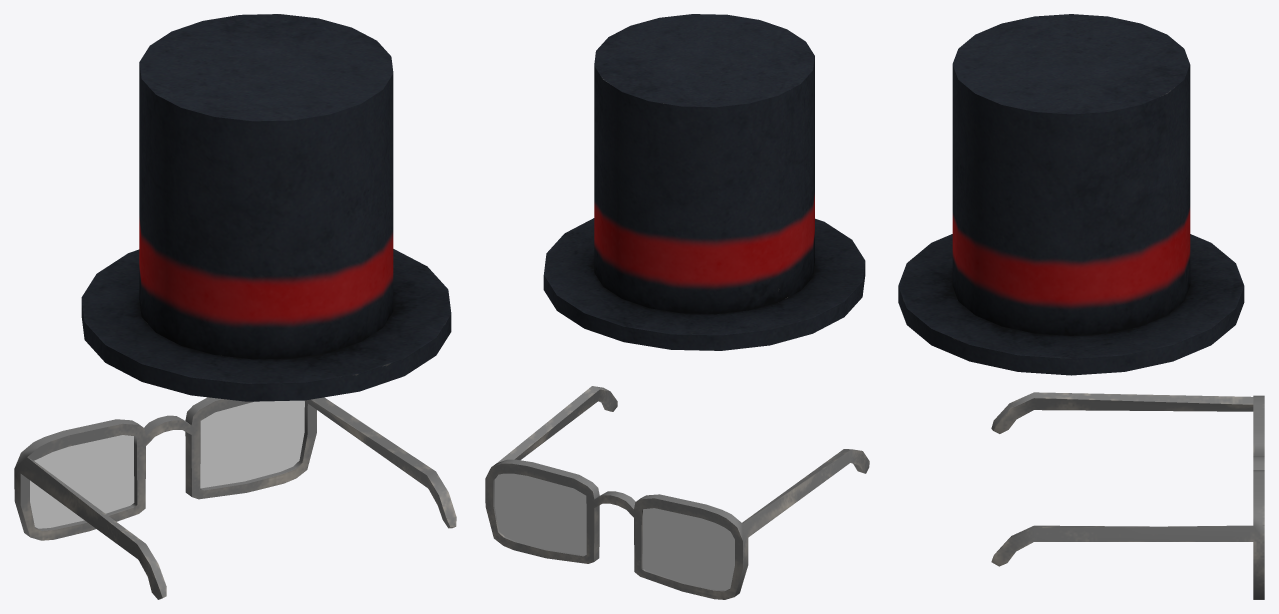
Rendered from lunette_chapeau(fini).fbx.
The picture shows the model from 3 angles, left to right: view 1: azimuth 30°, elevation 25°; view 2: azimuth 150°, elevation 25°; view 3: azimuth 270°, elevation 25°; orthographic projection. The views are drawn at different scales.
Parts seen in each view (by area): view 1: chapeau, lunette; view 2: chapeau, lunette; view 3: chapeau, lunette.
Boxes of the visible parts, bbox=[...] form: chapeau: bbox=[81, 14, 451, 401]; lunette: bbox=[14, 397, 456, 599]; chapeau: bbox=[543, 14, 865, 350]; lunette: bbox=[485, 386, 869, 599]; chapeau: bbox=[898, 14, 1244, 375]; lunette: bbox=[991, 392, 1264, 599].
Size of the model in its own units: 13.64 by 20.87 by 14.44.
Materials: 2 (1 with a texture image).
